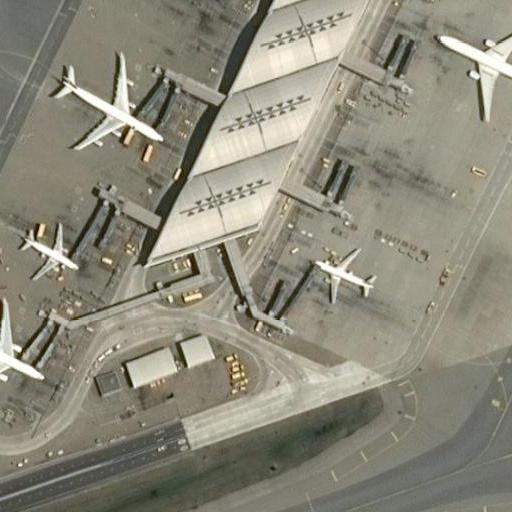Aircraft: (40, 46, 172, 159), (44, 48, 165, 155), (428, 11, 512, 121), (430, 14, 512, 122), (0, 214, 89, 284), (0, 288, 52, 402), (300, 244, 380, 302), (0, 296, 45, 399), (12, 218, 83, 281), (308, 245, 378, 305)
